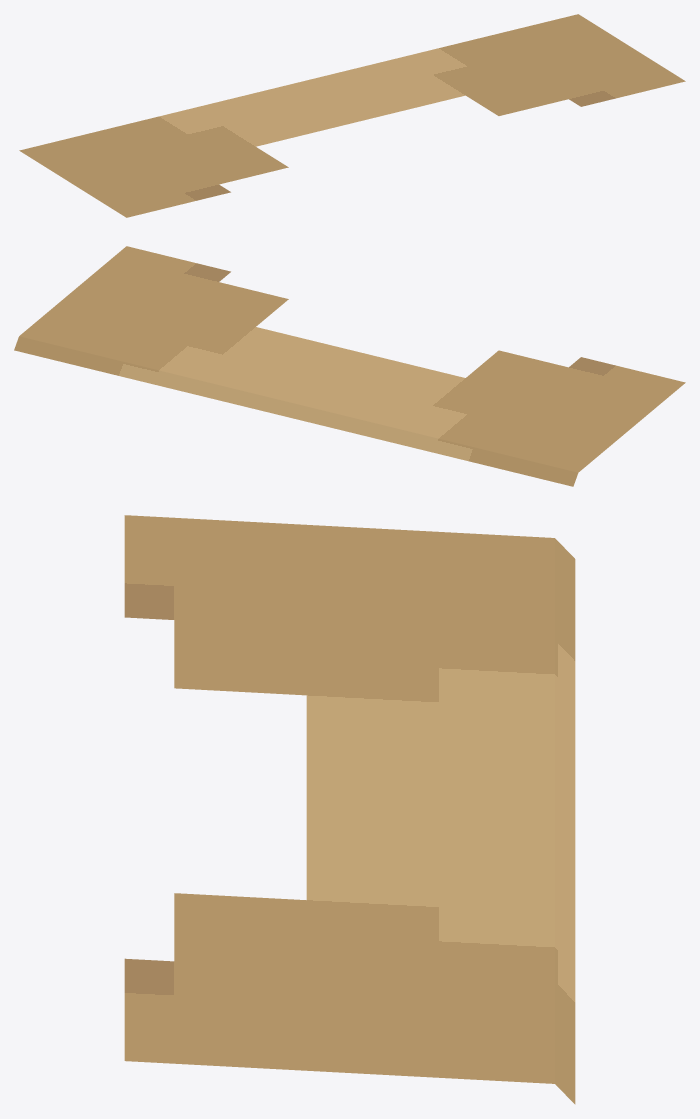
3 renders of one model, top to bottom at view 1: azimuth 30°, elevation 25°; view 2: azimuth 150°, elevation 25°; view 3: azimuth 270°, elevation 25°, orthographic. The views are drawn at different scales.
Size of the model in its own units: 1 by 0.0373 by 0.3486.
Materials: 1 (1 with a texture image).
